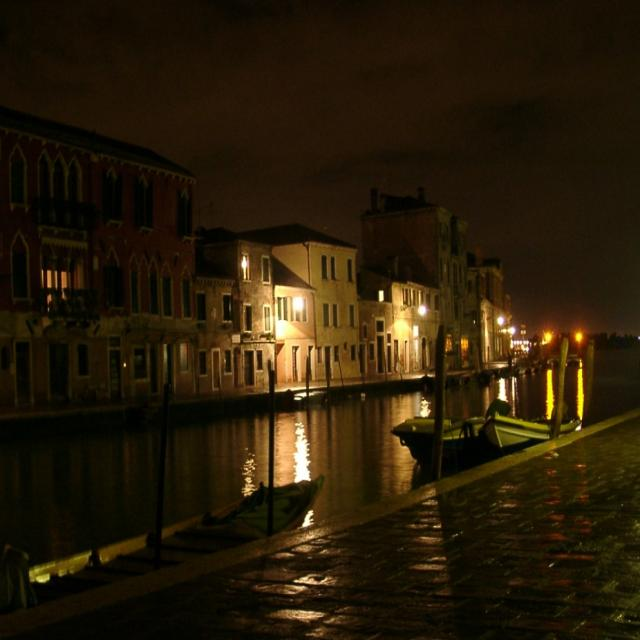Boat: (24, 452, 333, 619), (394, 388, 610, 460)
